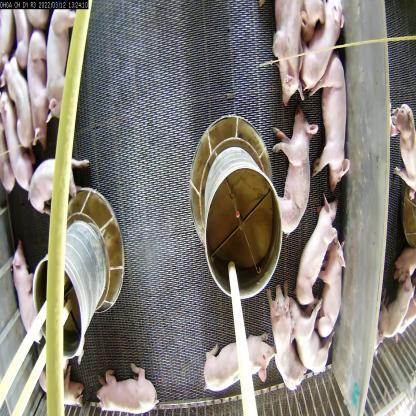Pig: (287, 288, 344, 384), (272, 112, 316, 233), (311, 58, 349, 186), (25, 153, 90, 224), (42, 8, 80, 126), (200, 336, 276, 390), (270, 1, 307, 103), (23, 29, 55, 146), (316, 235, 350, 345), (6, 250, 48, 338), (267, 284, 303, 383), (297, 199, 331, 303), (0, 90, 34, 192), (0, 50, 36, 146), (96, 365, 154, 415)
